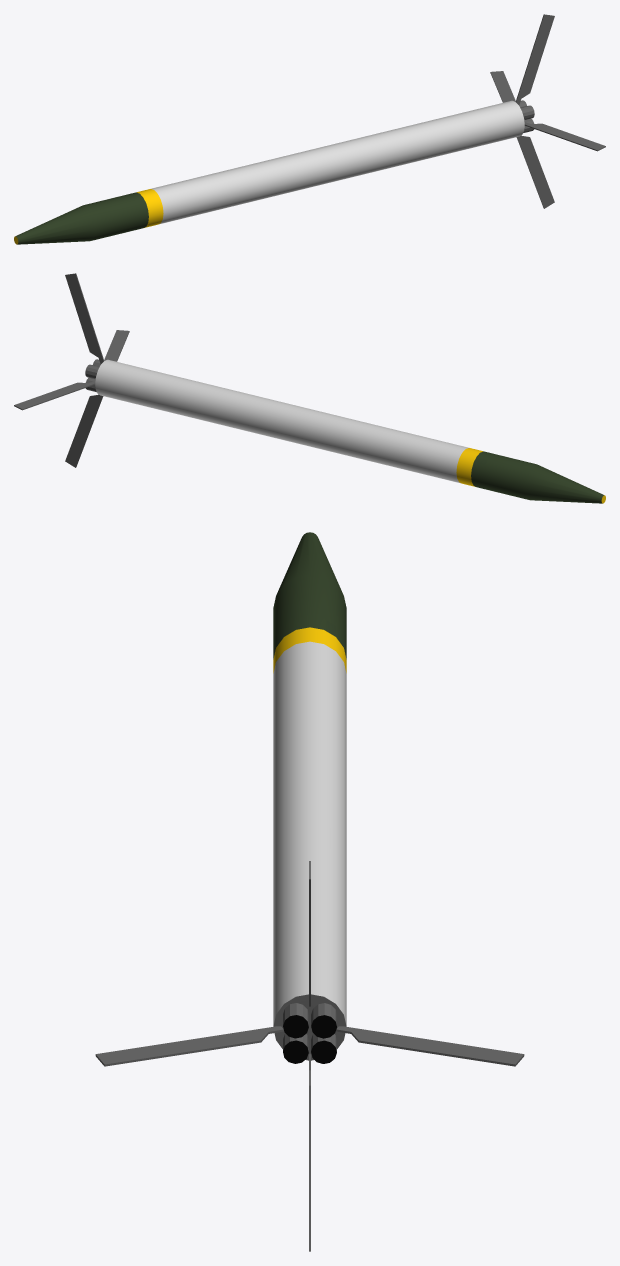
File: Mighty Mouse.glb
3 renders of one model, top to bottom at view 1: azimuth 30°, elevation 25°; view 2: azimuth 150°, elevation 25°; view 3: azimuth 270°, elevation 25°, orthographic. The views are drawn at different scales.
Parts seen in each view (by area): view 1: Body; view 2: Body; view 3: Body.
Part boxes in pixels (x1=…): Body: x1=14, y1=14, x2=605, y2=244; Body: x1=14, y1=273, x2=605, y2=503; Body: x1=95, y1=532, x2=524, y2=1251.
Size of the model in its own units: 1.19 by 0.4111 by 0.4111.
1 material, 1 textured.
